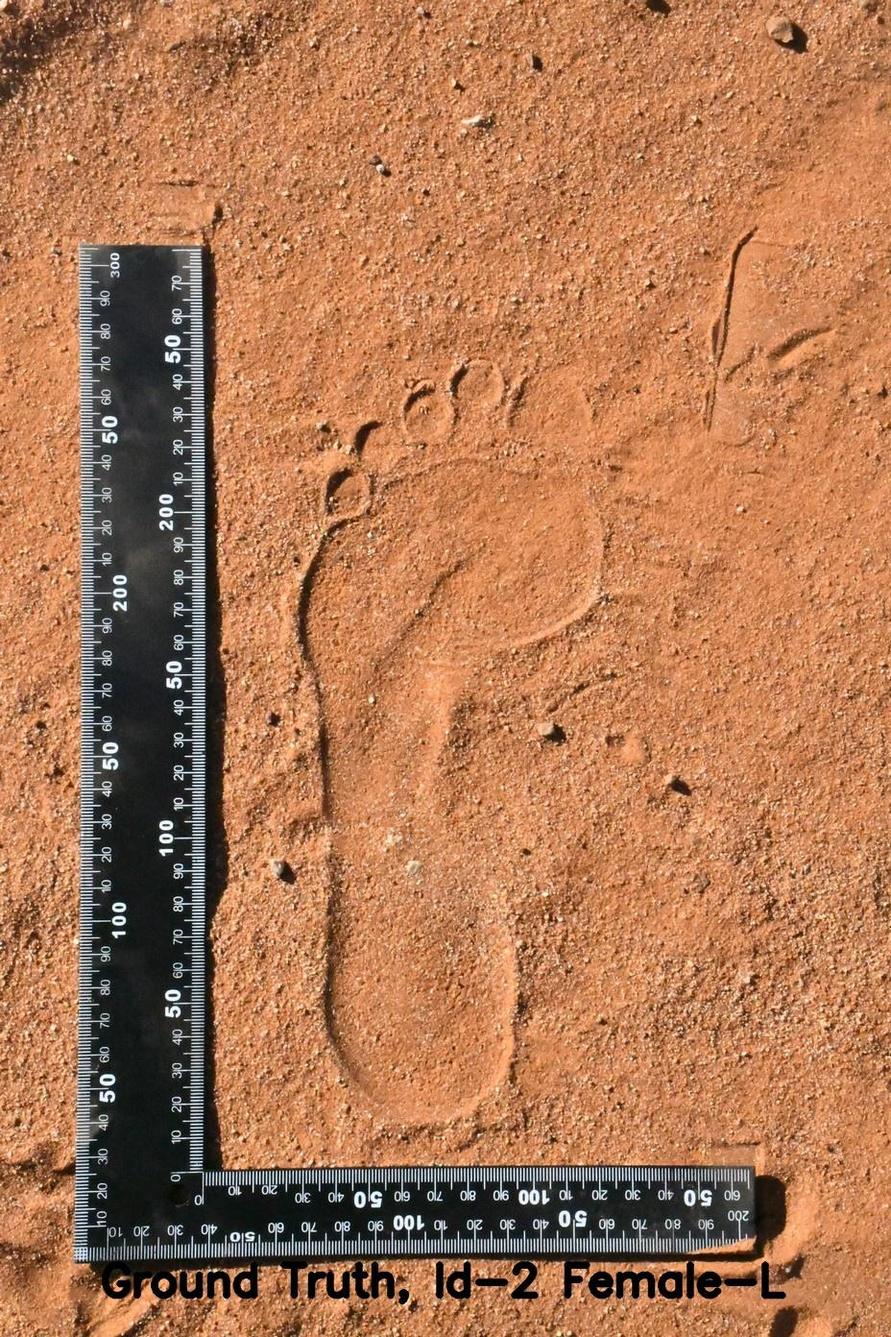human_footprint: (241, 317, 650, 1143)
